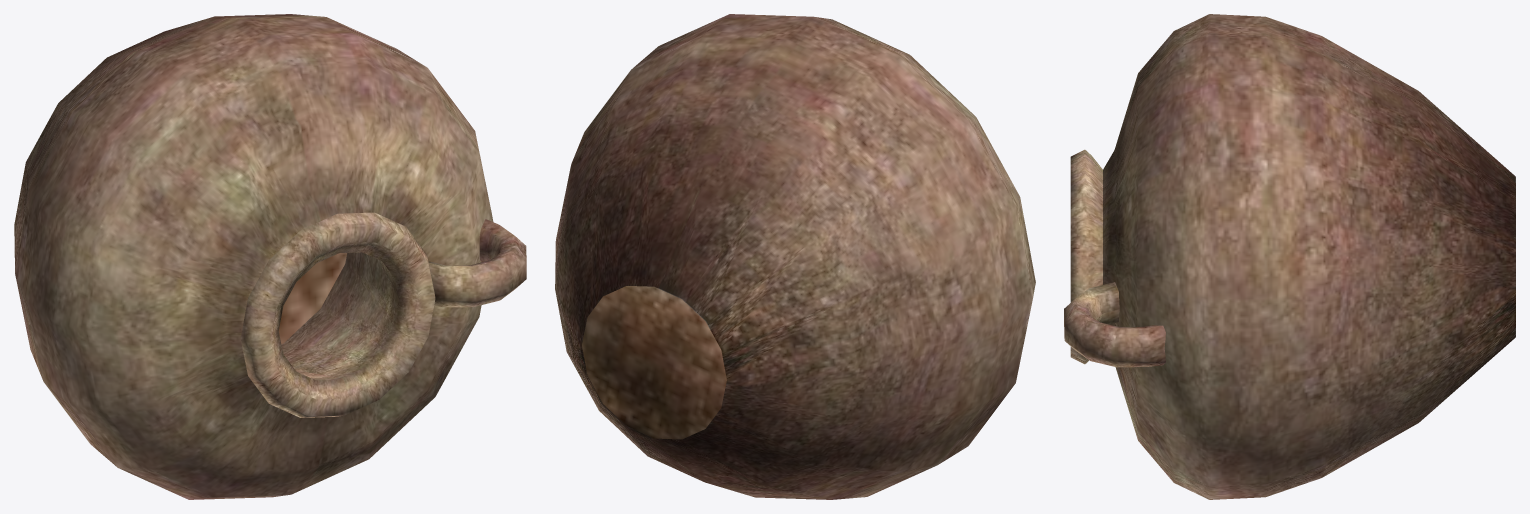
Rendered from egypt_prop_vase3_interior.glb.
The picture shows the model from 3 angles, left to right: view 1: azimuth 30°, elevation 25°; view 2: azimuth 150°, elevation 25°; view 3: azimuth 270°, elevation 25°; orthographic projection. The views are drawn at different scales.
Size of the model in its own units: 42.24 by 42.24 by 39.18.
Materials: 1 (1 with a texture image).
